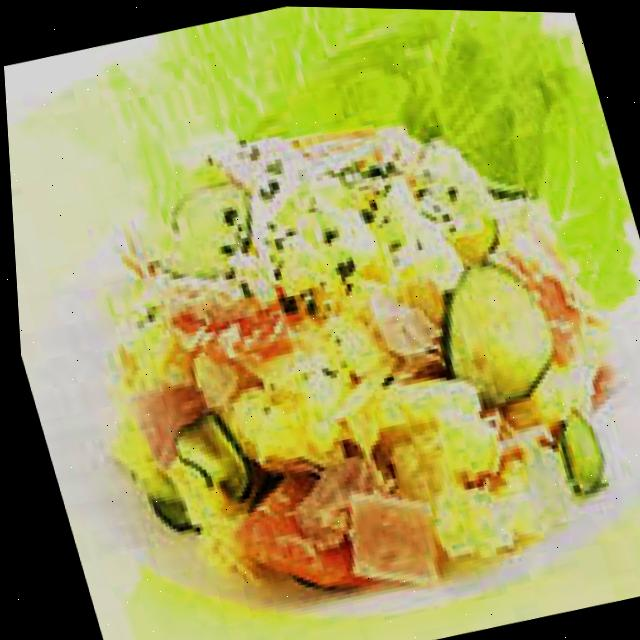蔬菜料理: (14, 65, 640, 640)
